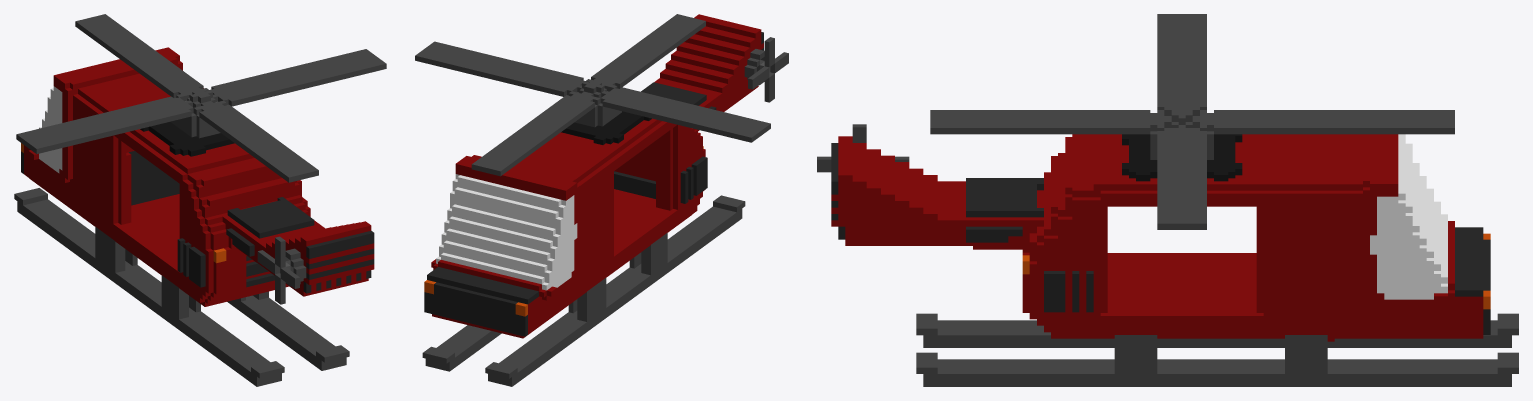
File: helico.obj
3 views of the same model, side by side, from view 1: azimuth 30°, elevation 25°; view 2: azimuth 150°, elevation 25°; view 3: azimuth 270°, elevation 25° (orthographic). The views are drawn at different scales.
Bounding box in the file's own units: 7 × 3.9 × 9.9.
Materials: 1 (1 with a texture image).
